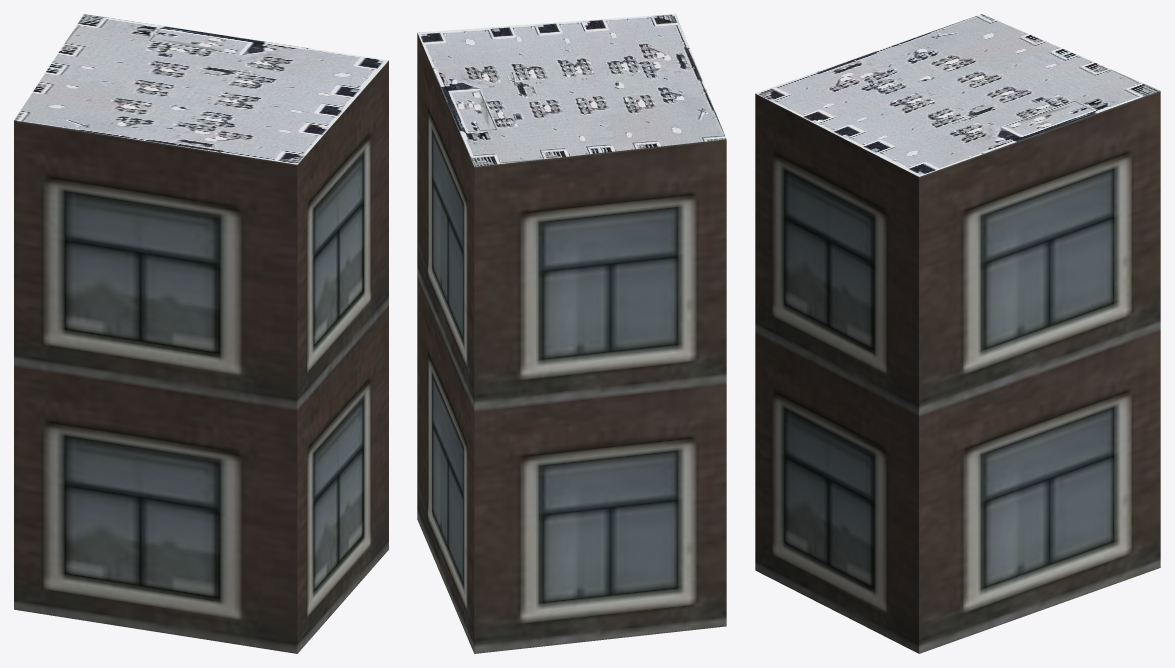
Rendered from ResTex__5144.fbx.
The picture shows the model from 3 angles, left to right: view 1: azimuth 30°, elevation 25°; view 2: azimuth 150°, elevation 25°; view 3: azimuth 270°, elevation 25°; orthographic projection. The views are drawn at different scales.
Visible parts, largest first — view 1: CityEngineMaterial_16_m, CityEngineMaterial_15_m; view 2: CityEngineMaterial_16_m, CityEngineMaterial_15_m; view 3: CityEngineMaterial_16_m, CityEngineMaterial_15_m.
Part boxes in pixels (bbox=[...]): CityEngineMaterial_16_m: bbox=[14, 61, 388, 653]; CityEngineMaterial_15_m: bbox=[14, 14, 388, 164]; CityEngineMaterial_16_m: bbox=[417, 33, 726, 653]; CityEngineMaterial_15_m: bbox=[417, 14, 726, 166]; CityEngineMaterial_16_m: bbox=[755, 91, 1160, 653]; CityEngineMaterial_15_m: bbox=[755, 14, 1160, 176].
Size of the model in its own units: 4.4 by 6 by 4.62.
2 materials, 2 textured.
